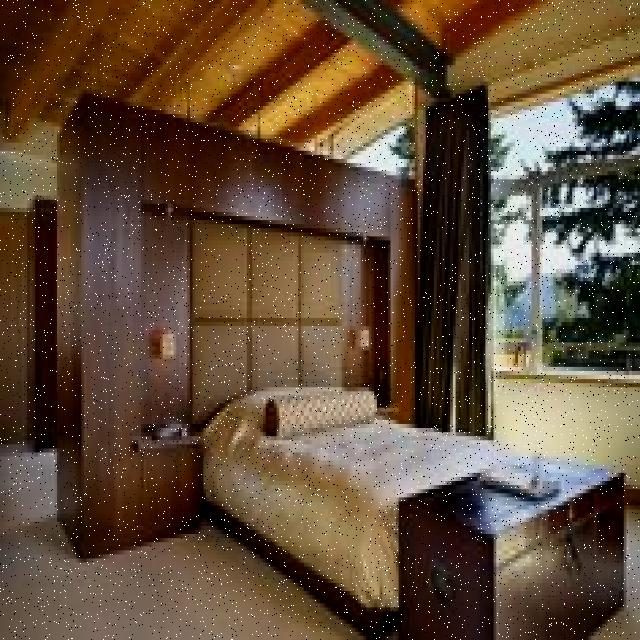bed: (200, 384, 513, 622)
